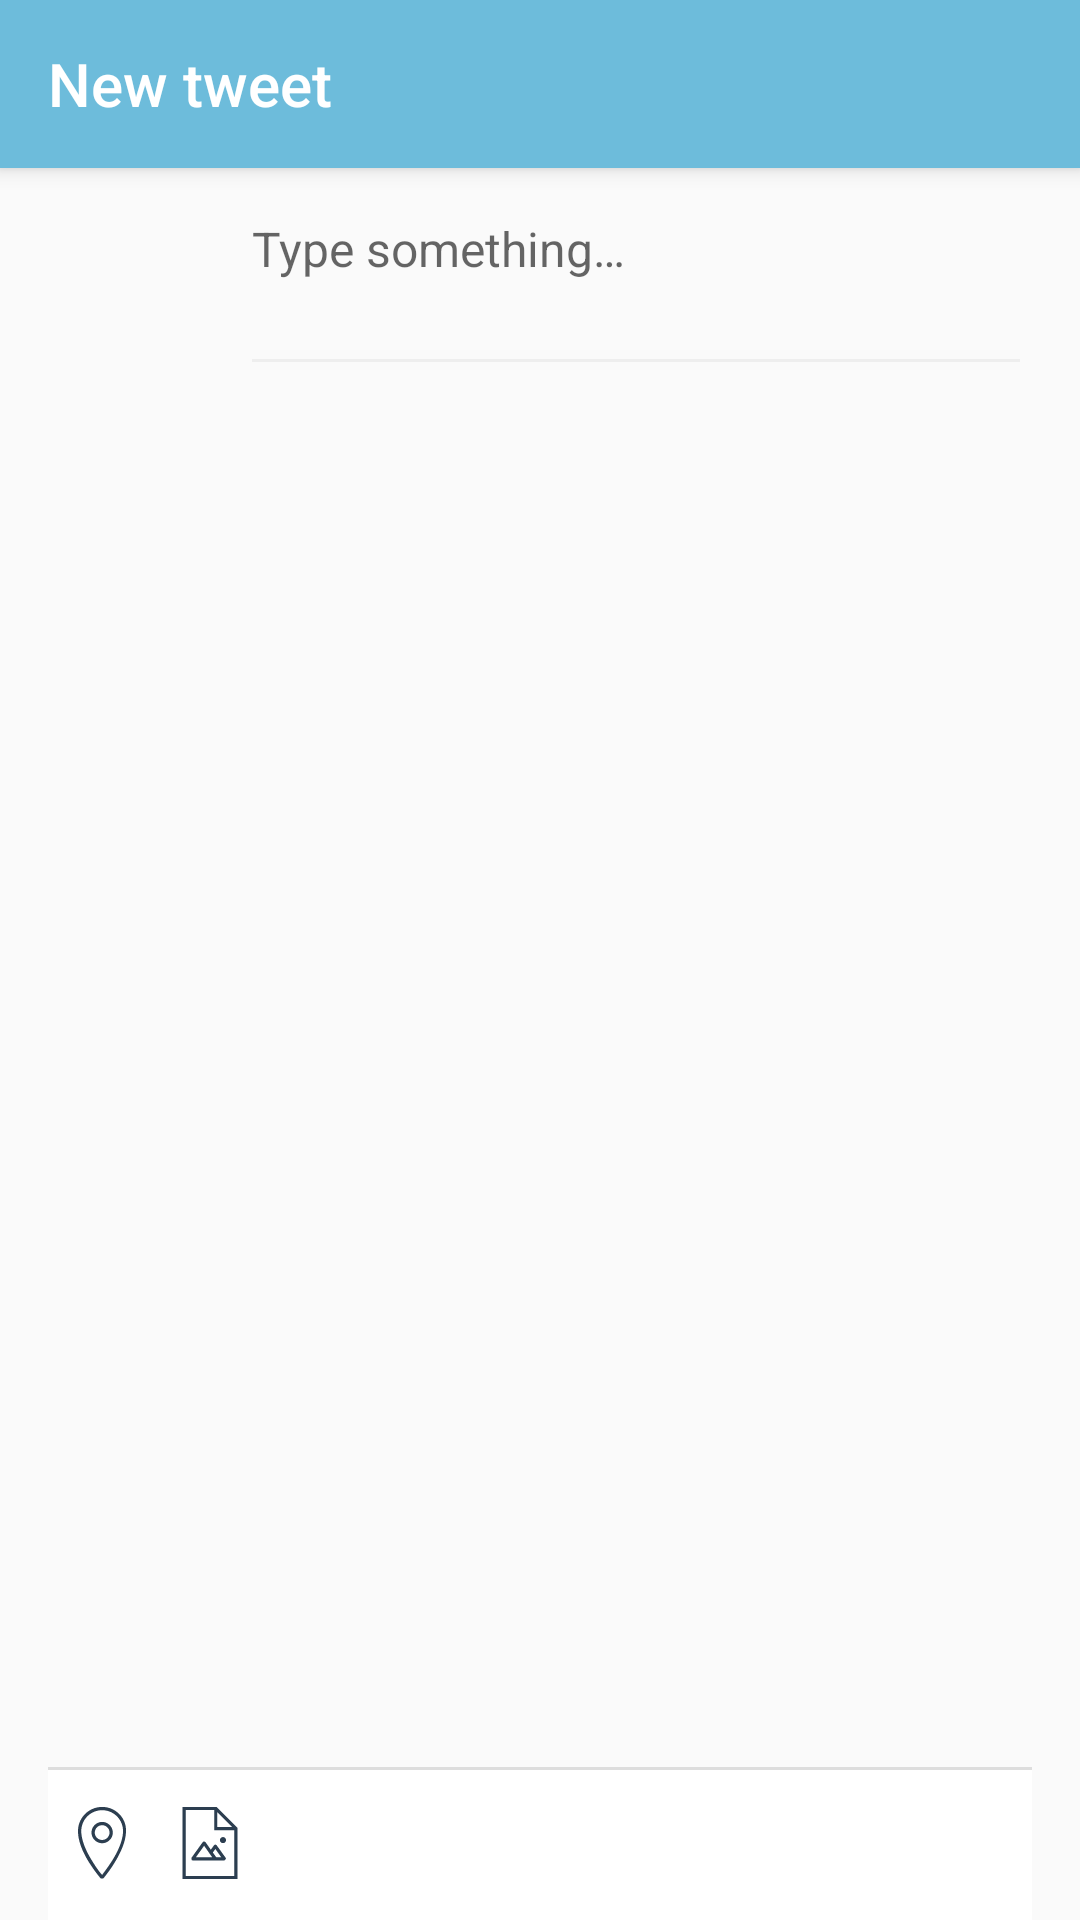

Locate icon controls on the screen. Image size 1080 × 1920, boxes as (x1, y1, x2, y2).
attach: (182, 1807, 238, 1879)
switch geo: (78, 1807, 126, 1879)
